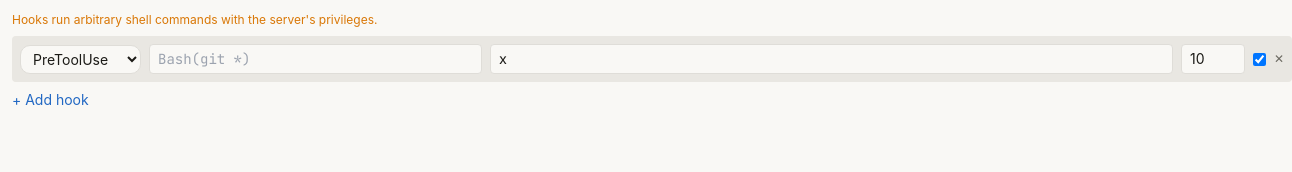
Test case: shows a validation error for a bad matcher and does not propagate it
Step 1. Type "Bash(broken" into the field with placeholder "Bash(git *)" → (315,59), box [149,44,482,74]
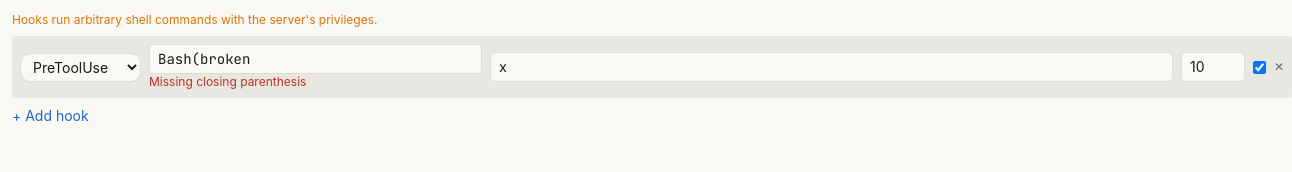
Now the text "Missing closing parenthesis" is shown, box [149,74,306,89]
